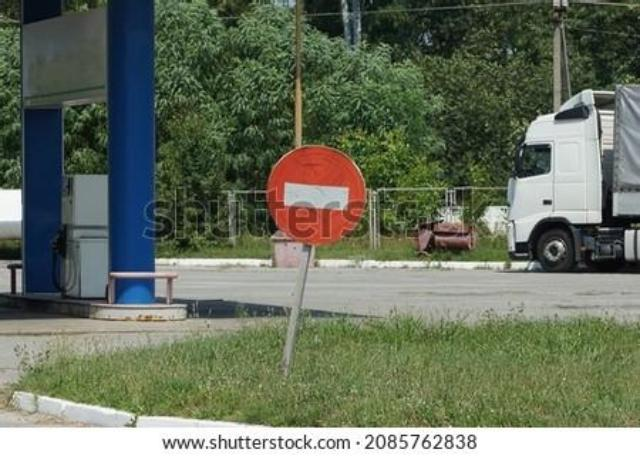B2: (265, 142, 367, 246)
